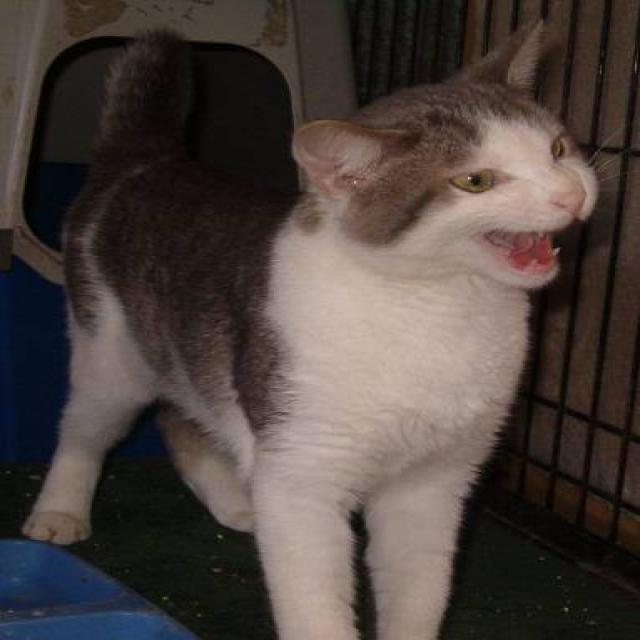cat: (19, 16, 614, 639)
